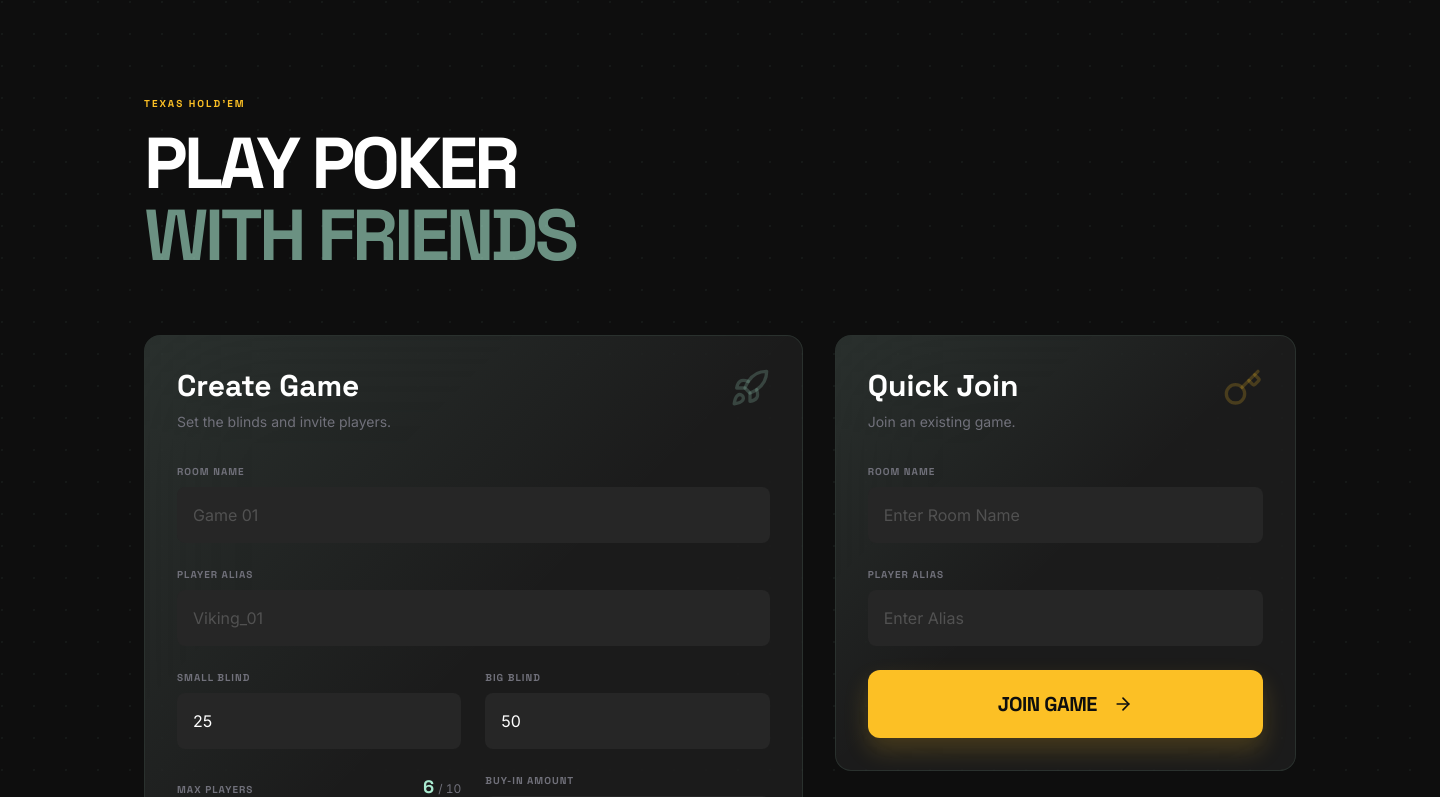
Lobby Integration › blocks JoinRoomForm while CreateRoomForm owns the shared request lock
In the field labelled "Room Name" below "Set the blinds and invite players.": x=473, y=515 [177,487,770,543], type "Locked Room"
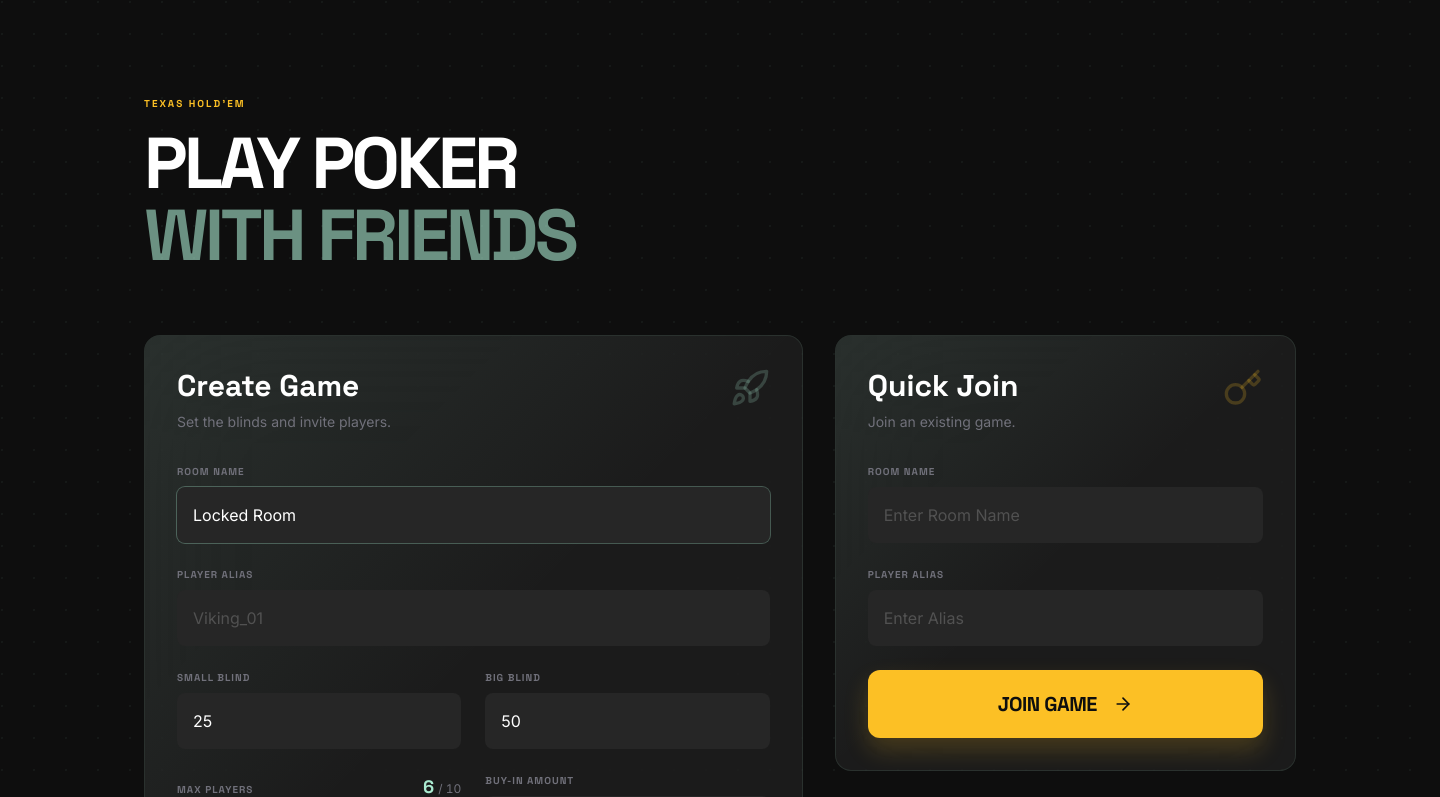
In the field labelled "Player Alias" below "Set the blinds and invite players.": x=473, y=618 [177,590,770,646], type "Host"
(page scrolled)
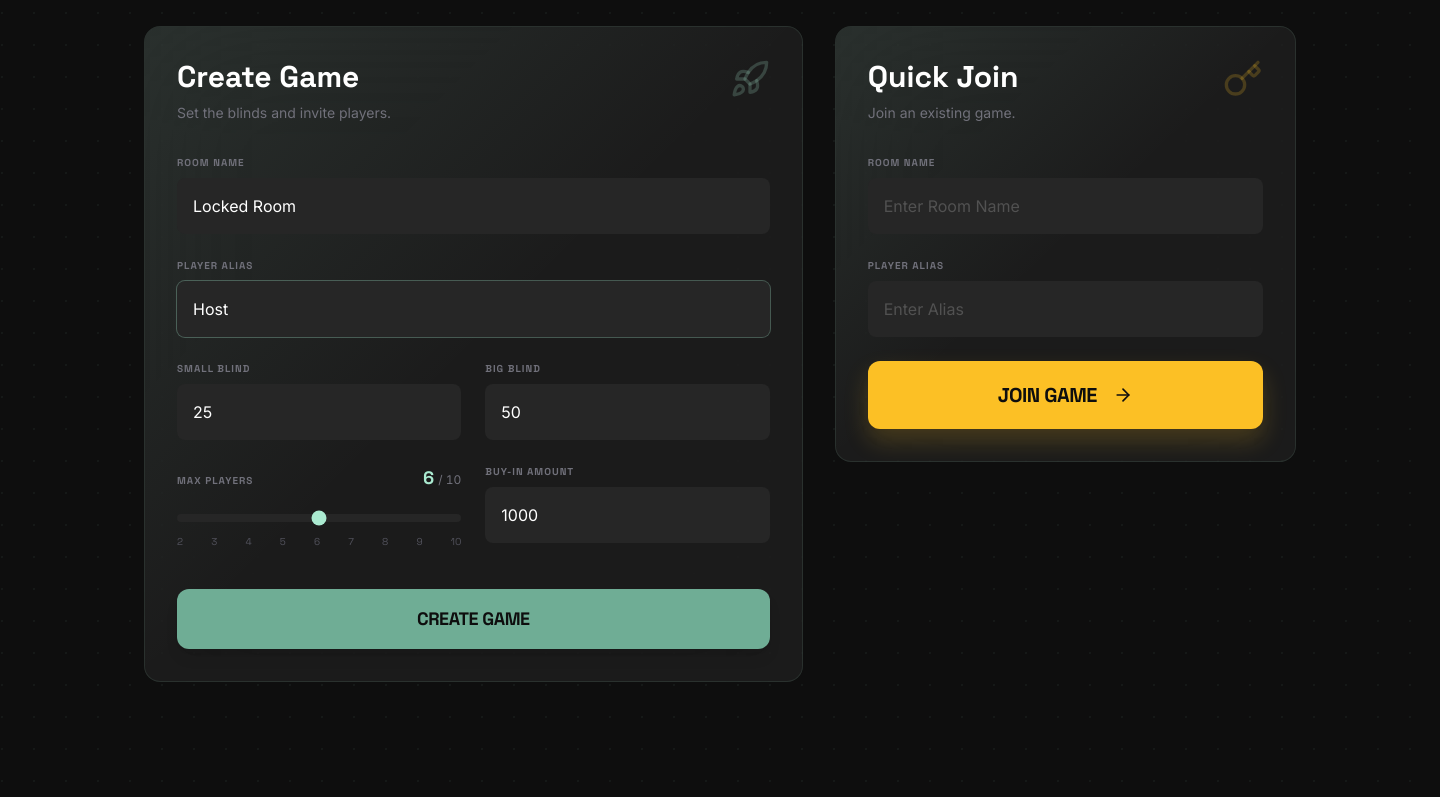
Click the button "CREATE GAME": x=473, y=619 [177,589,770,649]
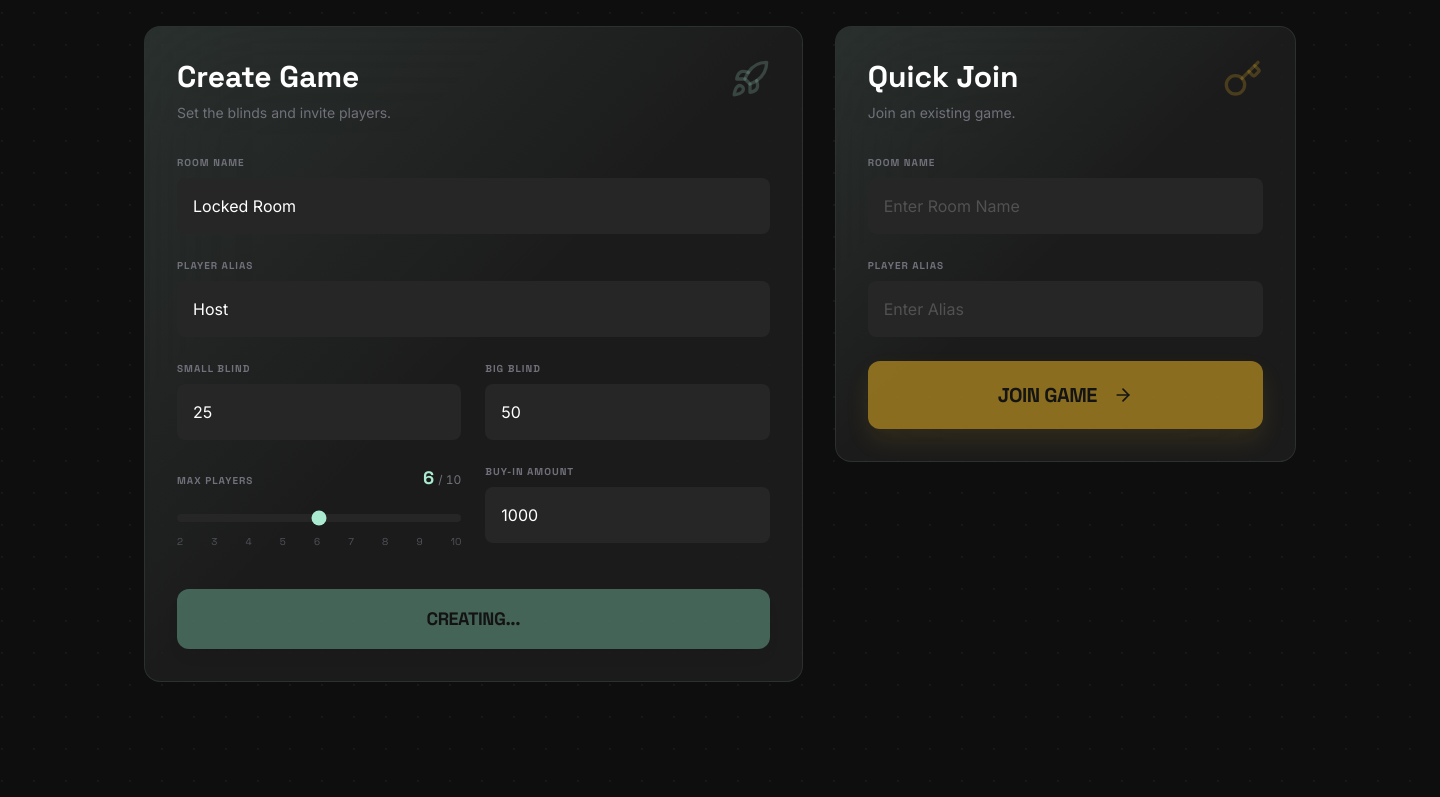
Check: the button "CREATING..." is disabled, box [177,589,770,649]
Check: the button "JOIN GAME" is disabled, box [868,361,1263,429]
